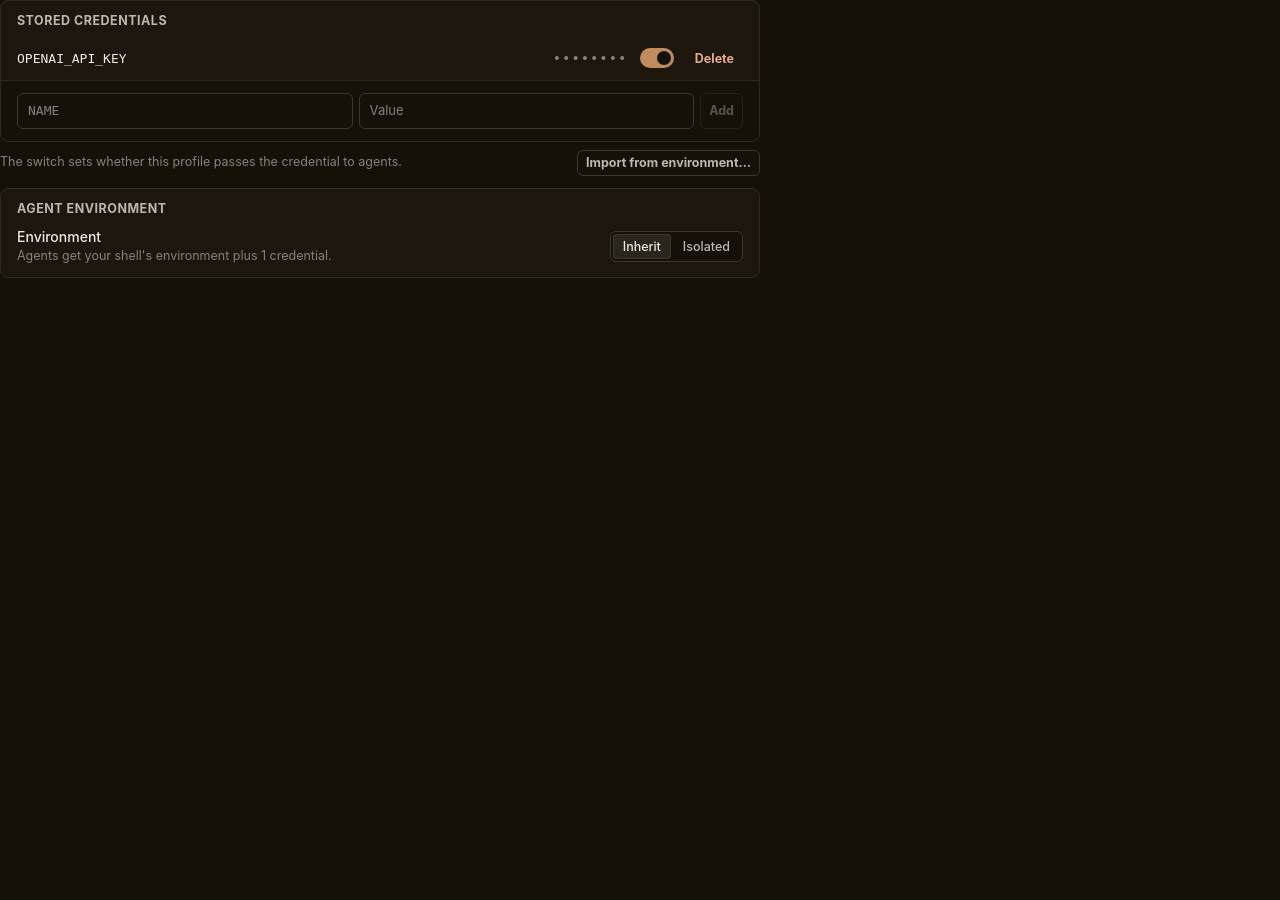
Scenario: CredentialsSection › deletes a stored credential after confirmation
The image size is (1280, 900).
Check: the text "OPENAI_API_KEY" is shown, box [17,50,127,66]
Click the button "Delete" at (714, 58), box [686,45,743,71]
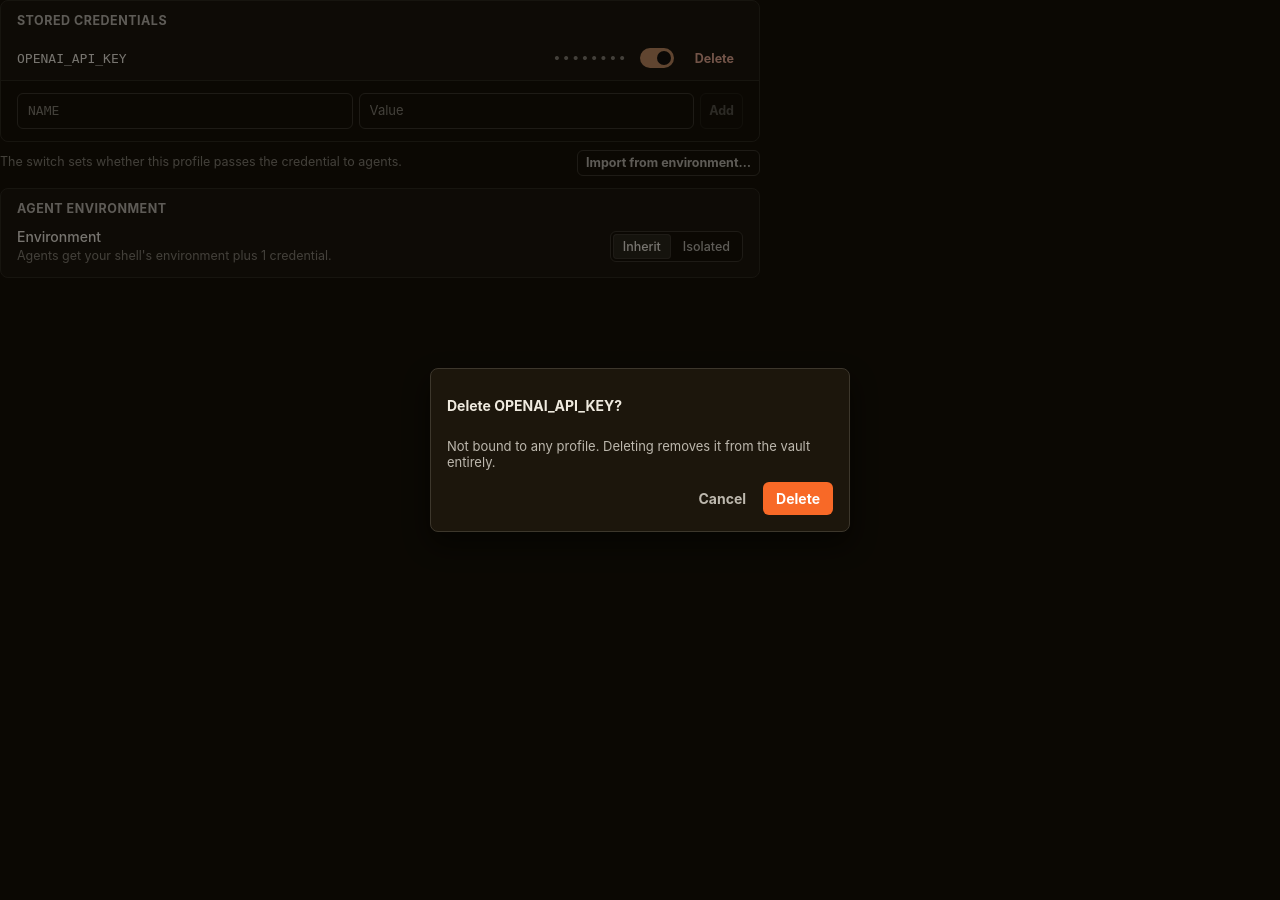
Check: the text "OPENAI_API_KEY" is shown, box [17,50,127,66]
Click the button "Delete" at (798, 498), box [763,482,833,515]
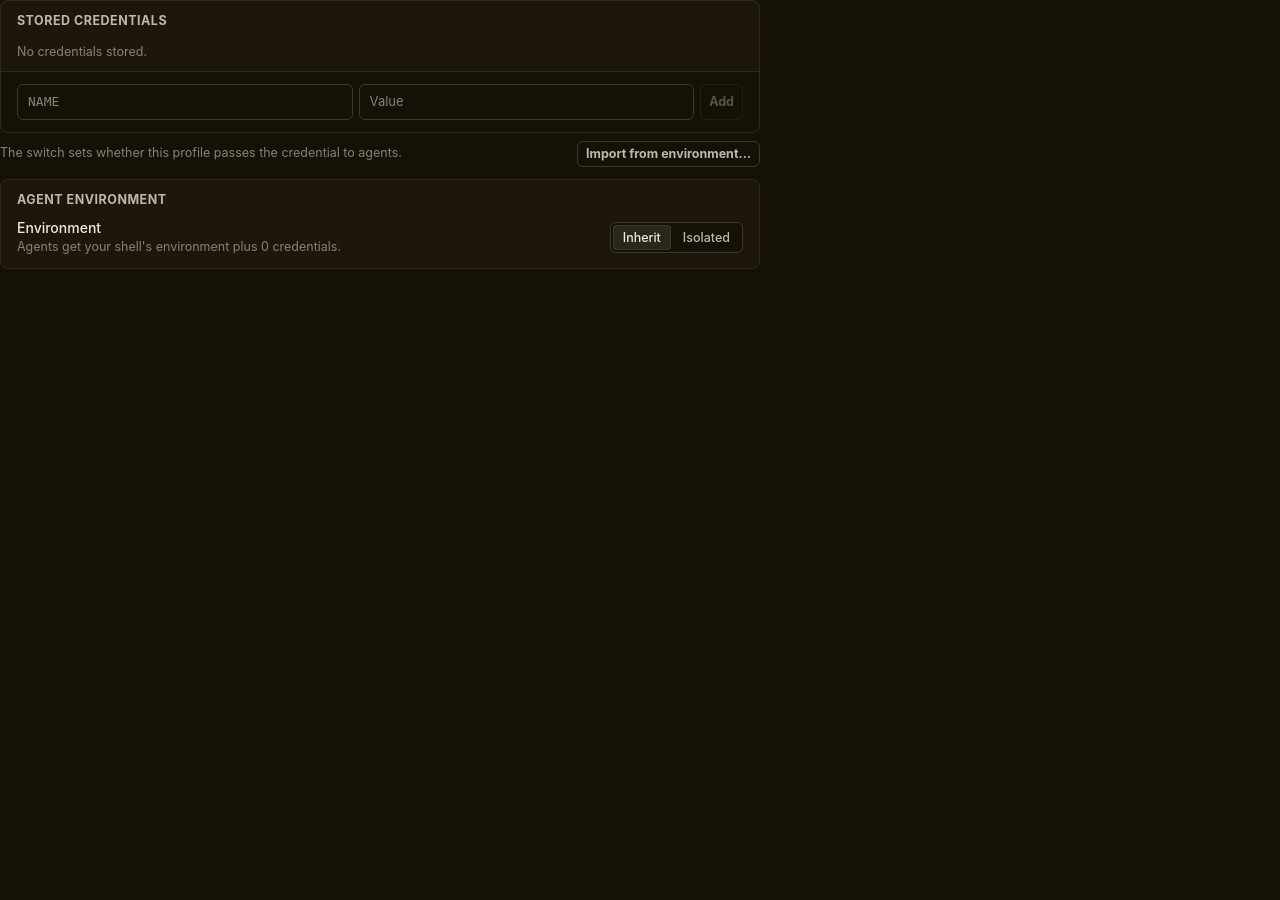
Check: the list item "No credentials stored." is shown, box [17,44,147,59]
